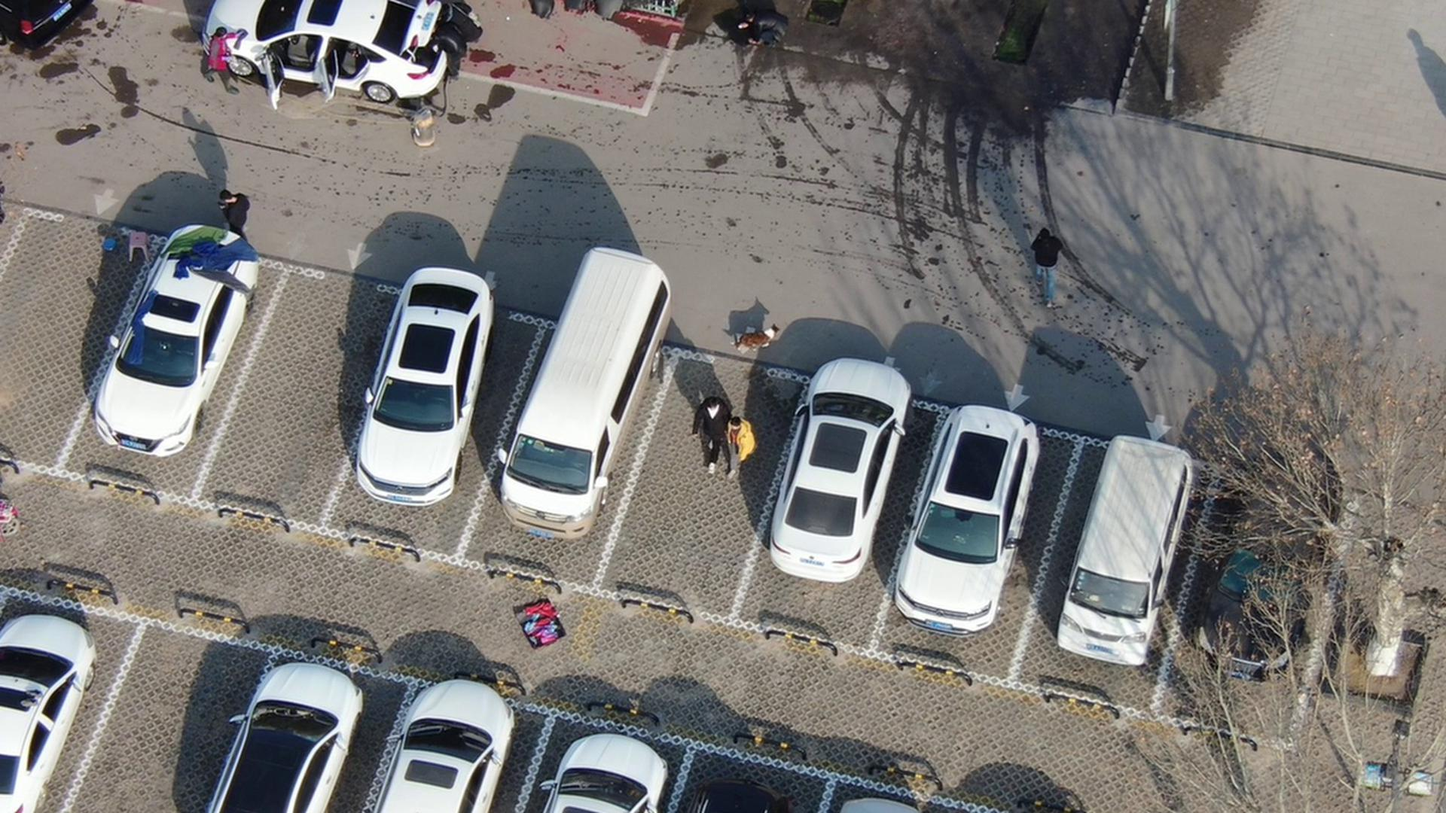class_2: (432, 1, 490, 81)
human: (208, 18, 255, 98), (1030, 227, 1073, 309), (750, 2, 806, 53), (722, 419, 766, 483), (221, 185, 264, 244), (698, 393, 728, 460), (1, 159, 23, 234)
